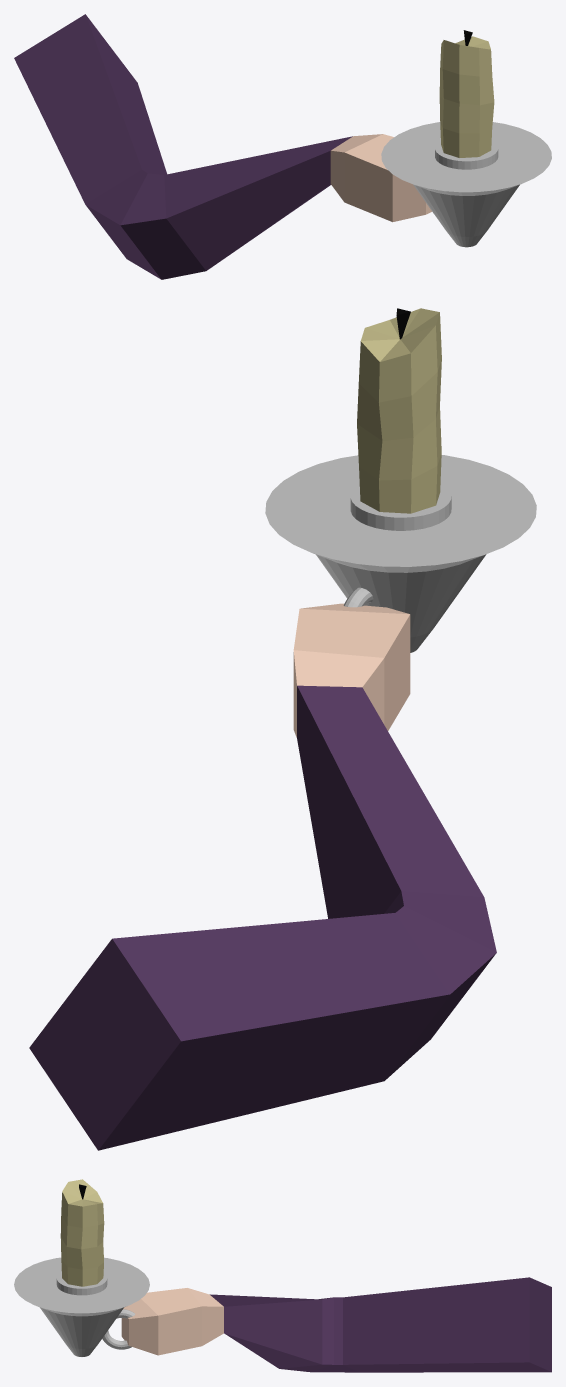
Rendered from ViewmodelCandle.fbx.
The picture shows the model from 3 angles, top to bottom: view 1: azimuth 30°, elevation 25°; view 2: azimuth 150°, elevation 25°; view 3: azimuth 270°, elevation 25°; orthographic projection. The views are drawn at different scales.
Visible parts, largest first — view 1: Arm, Holder, Candle, Hand; view 2: Arm, Holder, Candle, Hand; view 3: Arm, Holder, Hand, Candle, Handle.
Part boxes in pixels (left/top/right/bottom): Arm: left=14, top=14, right=352, bottom=279; Holder: left=381, top=122, right=551, bottom=247; Candle: left=439, top=36, right=494, bottom=157; Hand: left=330, top=134, right=431, bottom=222; Arm: left=29, top=685, right=496, bottom=1150; Holder: left=265, top=455, right=536, bottom=652; Candle: left=357, top=308, right=441, bottom=513; Hand: left=293, top=603, right=410, bottom=737; Arm: left=210, top=1277, right=551, bottom=1372; Holder: left=14, top=1257, right=149, bottom=1356; Hand: left=121, top=1288, right=223, bottom=1355; Candle: left=60, top=1179, right=104, bottom=1286; Handle: left=102, top=1309, right=134, bottom=1349.
Bounding box in the file's own units: 35.14 × 37.75 × 73.45.
